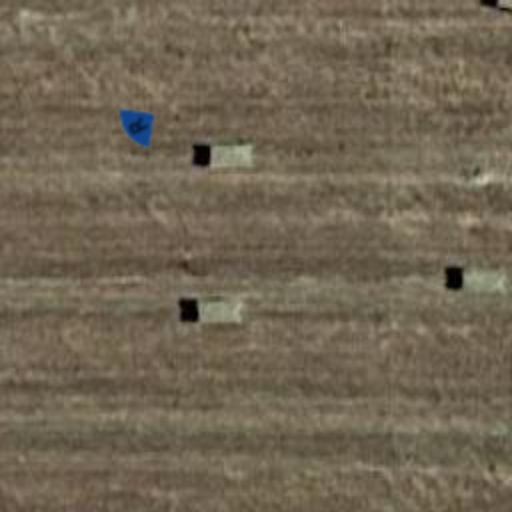quarter_circle: (106, 94, 170, 158)
